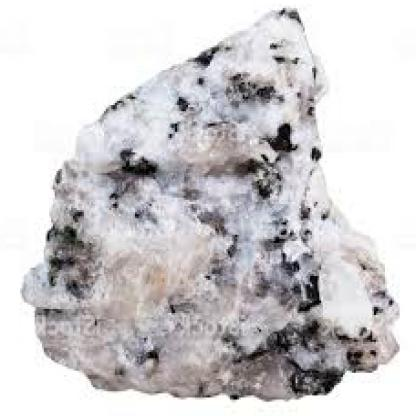Igneous_Diorite: (15, 0, 405, 410)
